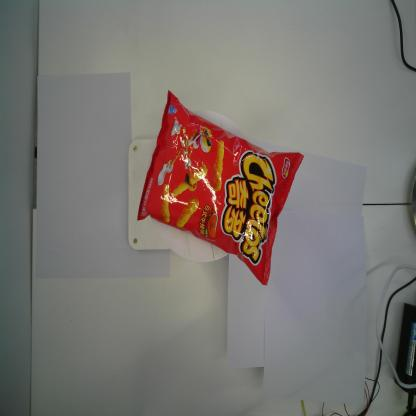Puffed Food: (132, 88, 304, 291)
